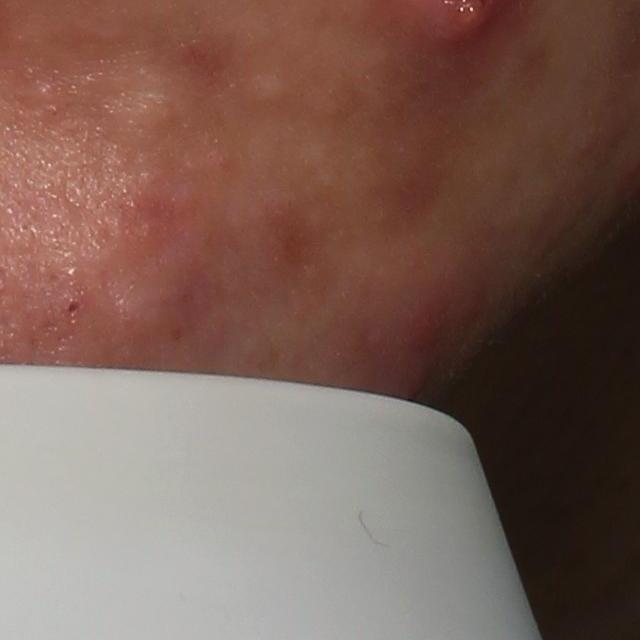hypertrophic_scar: (103, 53, 182, 141), (246, 72, 288, 109)
papule: (396, 292, 456, 359), (46, 284, 95, 331)
